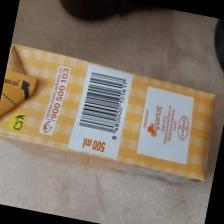Kertas: (0, 45, 214, 181)
